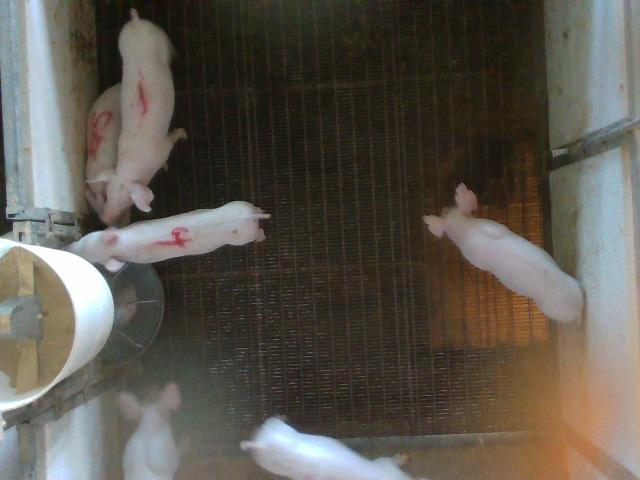pig-1: (102, 9, 185, 224)
pig-4: (66, 201, 269, 272)
pig-5: (85, 84, 121, 216)
